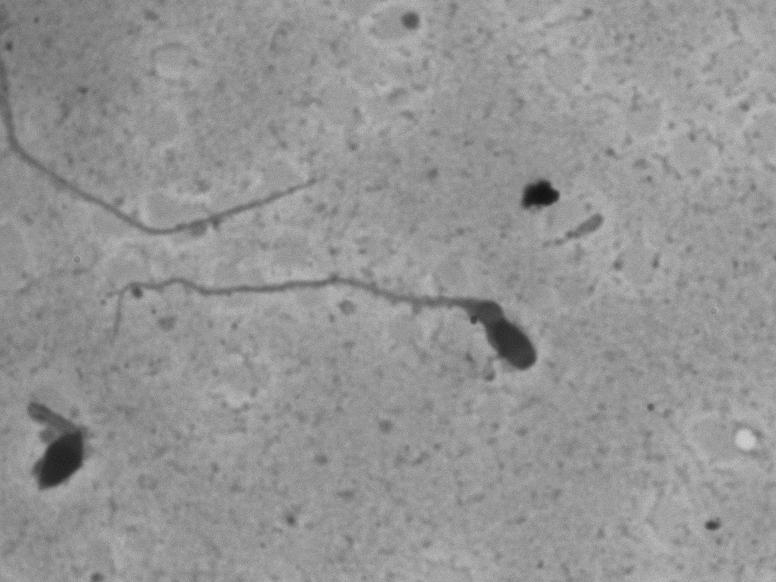Abnormal: (99, 249, 554, 393)
